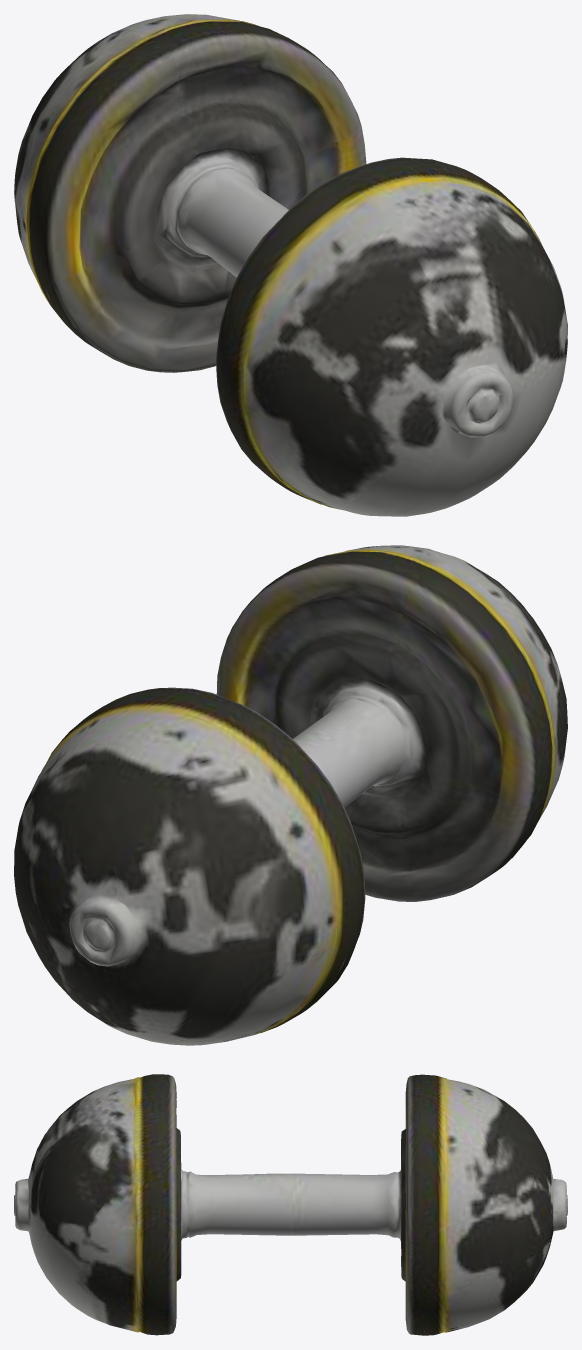
The model's file is dumbbell-light.glb.
3 views of the same model, one above another, from view 1: azimuth 30°, elevation 25°; view 2: azimuth 150°, elevation 25°; view 3: azimuth 270°, elevation 25° (orthographic). The views are drawn at different scales.
Visible parts, largest first — view 1: tripo_node_2f9c48f7-6459-4b7a-84a0-5d703cb70c45; view 2: tripo_node_2f9c48f7-6459-4b7a-84a0-5d703cb70c45; view 3: tripo_node_2f9c48f7-6459-4b7a-84a0-5d703cb70c45.
Boxes of the visible parts, bbox=[...] form: tripo_node_2f9c48f7-6459-4b7a-84a0-5d703cb70c45: bbox=[14, 14, 567, 516]; tripo_node_2f9c48f7-6459-4b7a-84a0-5d703cb70c45: bbox=[14, 545, 567, 1045]; tripo_node_2f9c48f7-6459-4b7a-84a0-5d703cb70c45: bbox=[14, 1074, 567, 1335].
Size of the model in its own units: 0.4764 by 0.4711 by 0.9998.
Materials: 1 (1 with a texture image).
